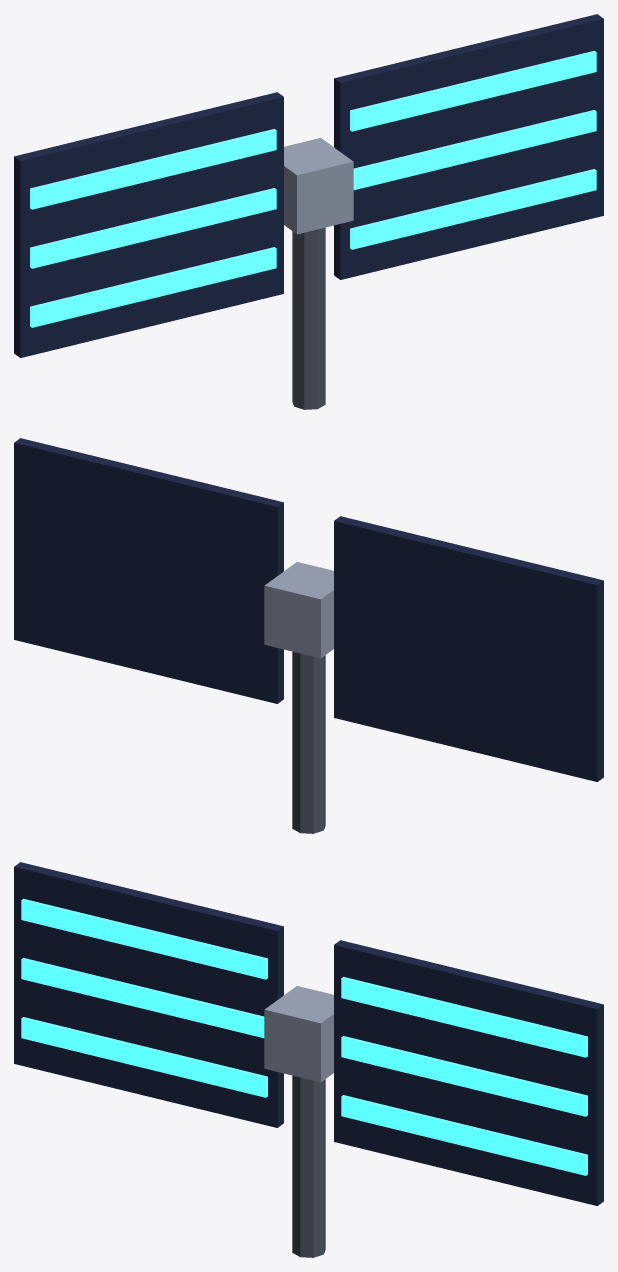
File: stationpack-solar-panel.glb
The picture shows the model from 3 angles, top to bottom: view 1: azimuth 30°, elevation 25°; view 2: azimuth 150°, elevation 25°; view 3: azimuth 330°, elevation 25°; orthographic projection.
Parts seen in each view (by area): view 1: solar_panel; view 2: solar_panel; view 3: solar_panel.
Boxes of the visible parts, x1=… form: solar_panel: x1=14, y1=14, x2=603, y2=409; solar_panel: x1=14, y1=438, x2=603, y2=833; solar_panel: x1=14, y1=862, x2=603, y2=1257.
Bounding box in the file's own units: 3.1 × 1.6 × 0.3.
